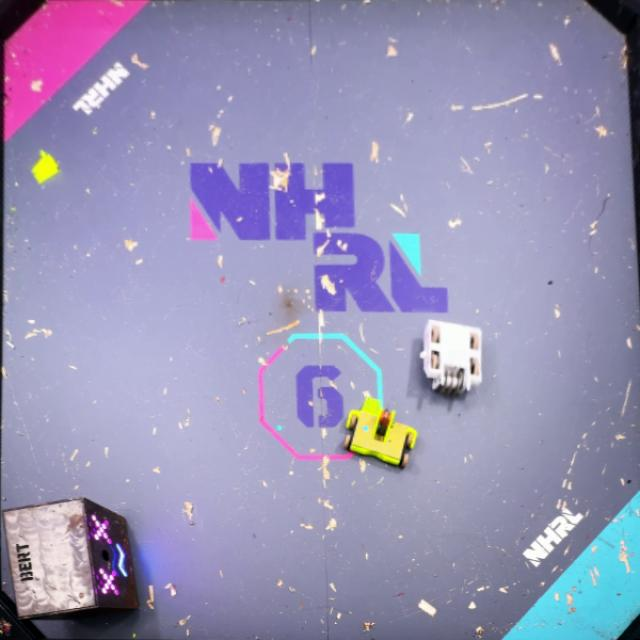housebot: (0, 499, 140, 619)
robot: (343, 399, 418, 469), (419, 318, 483, 397)
